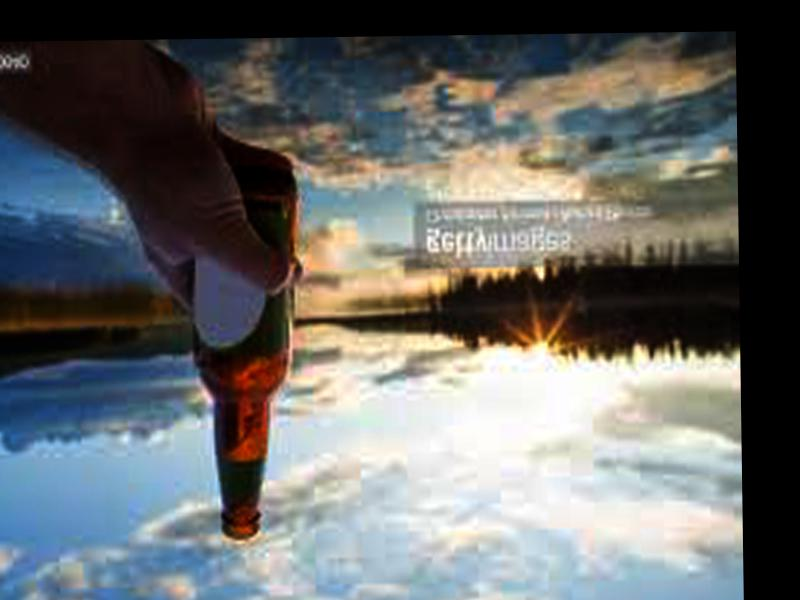Beer: (188, 171, 304, 540)
